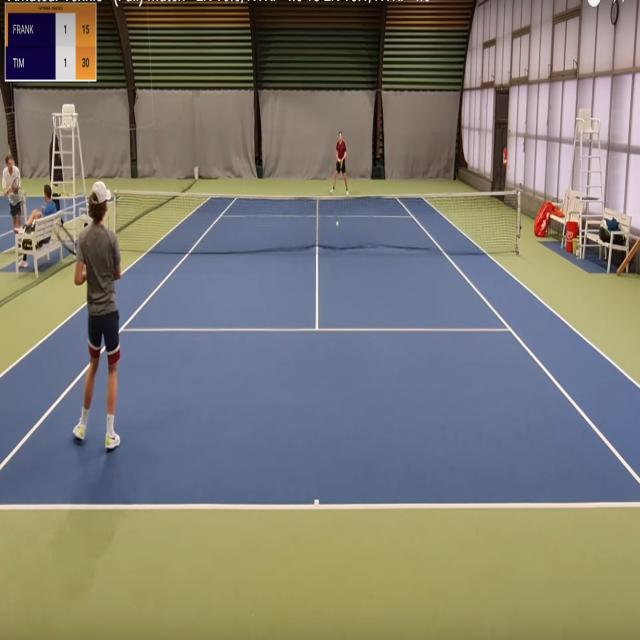ball: (336, 220, 339, 228)
